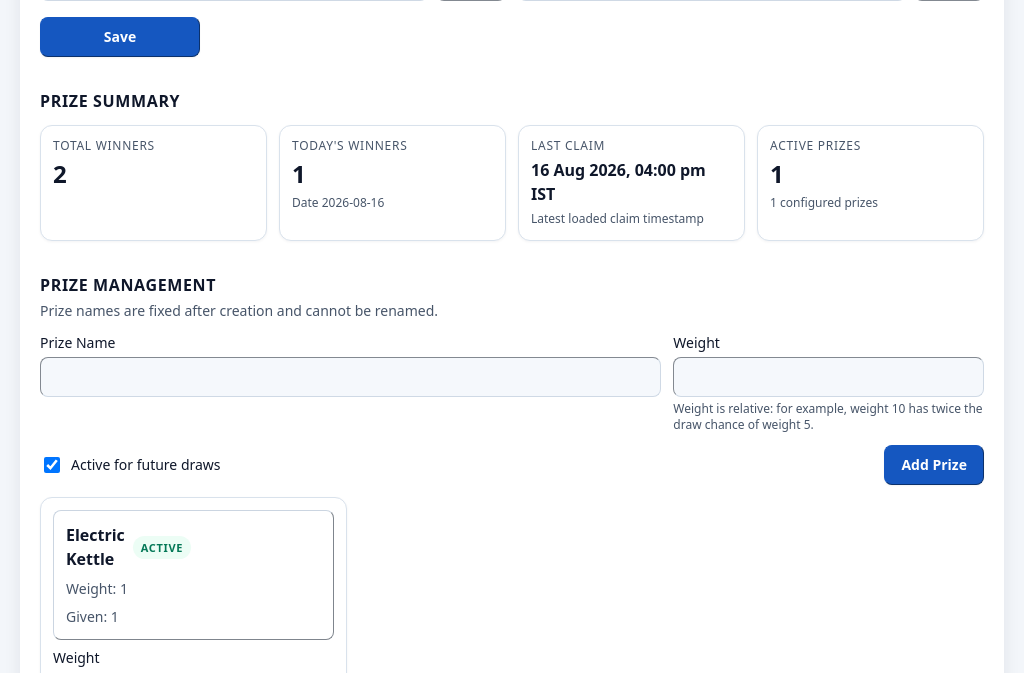
Test: admin operations page › rejects invalid add-prize form data
(page scrolled)
Type "0" into the 1st number field labelled "Weight" at (829, 377), box [673,357,984,397]
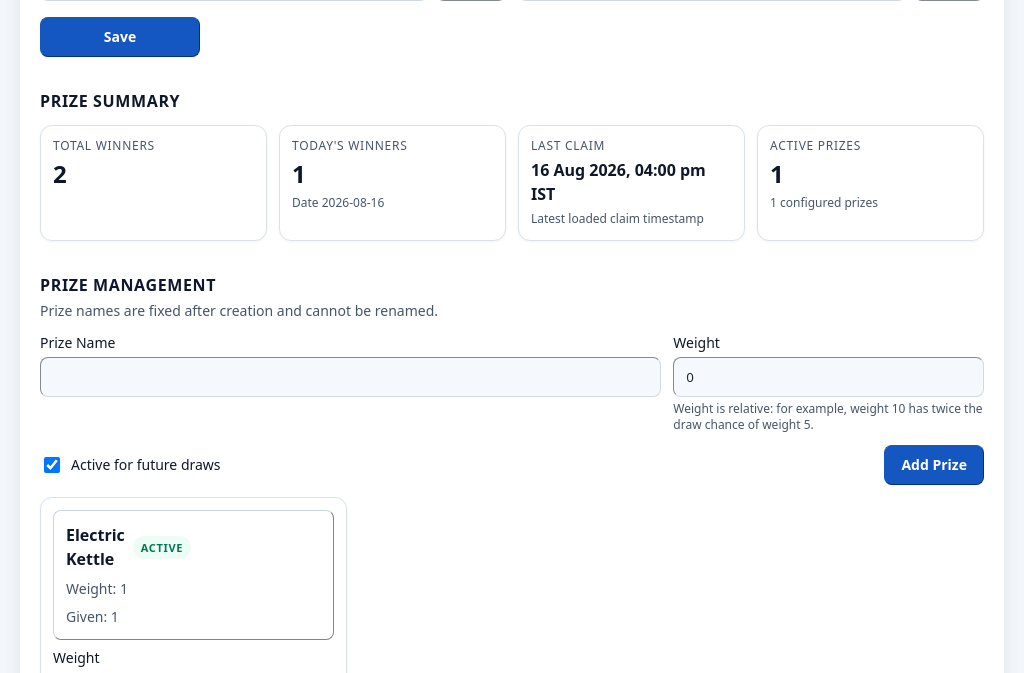
Click the button "Add Prize" at (934, 465), box [884,445,984,485]
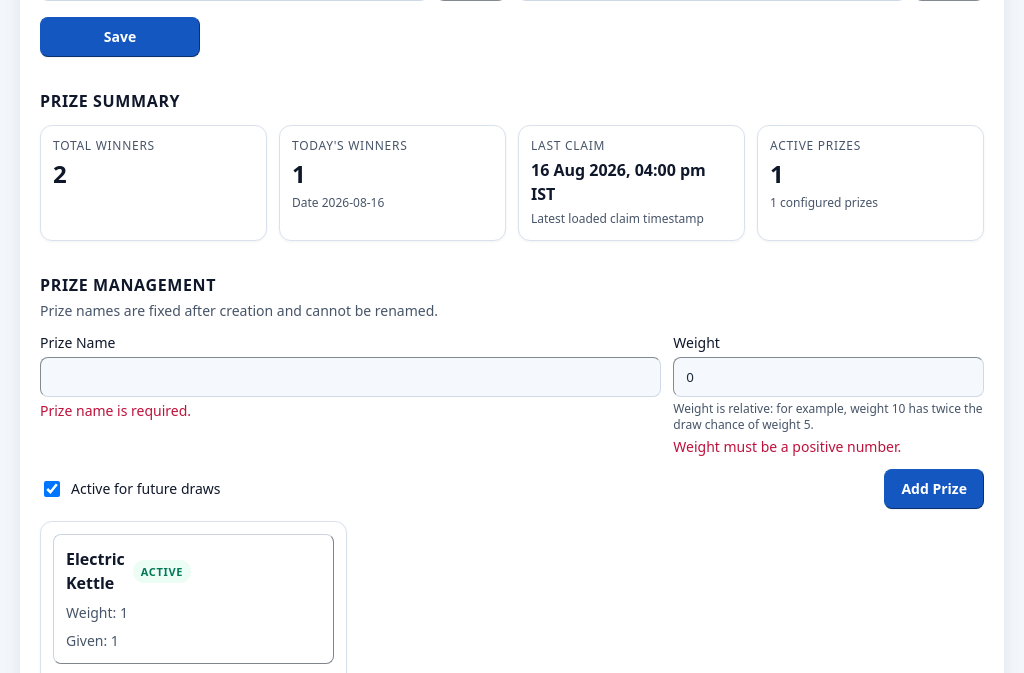
Expected: the text "Prize name is required." is shown, [40,401,191,420]
Expected: the text "Weight must be a positive number." is shown, [673,437,901,456]
